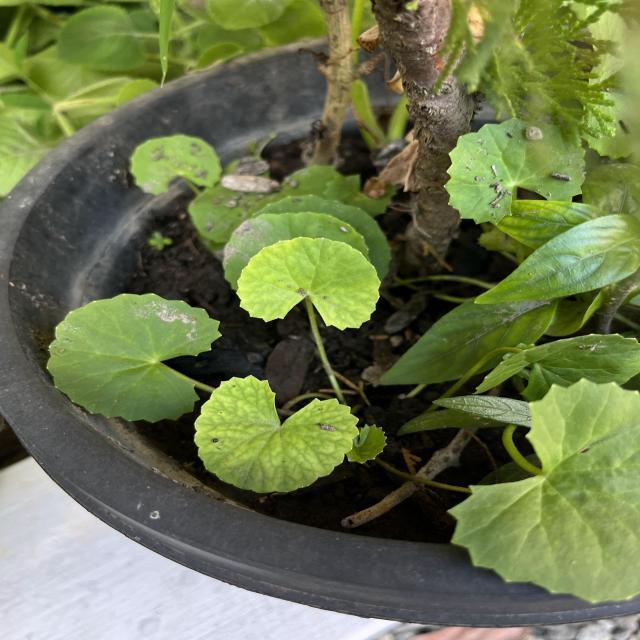Centella asiatica: (42, 288, 226, 428), (190, 372, 363, 496), (232, 232, 386, 334)
